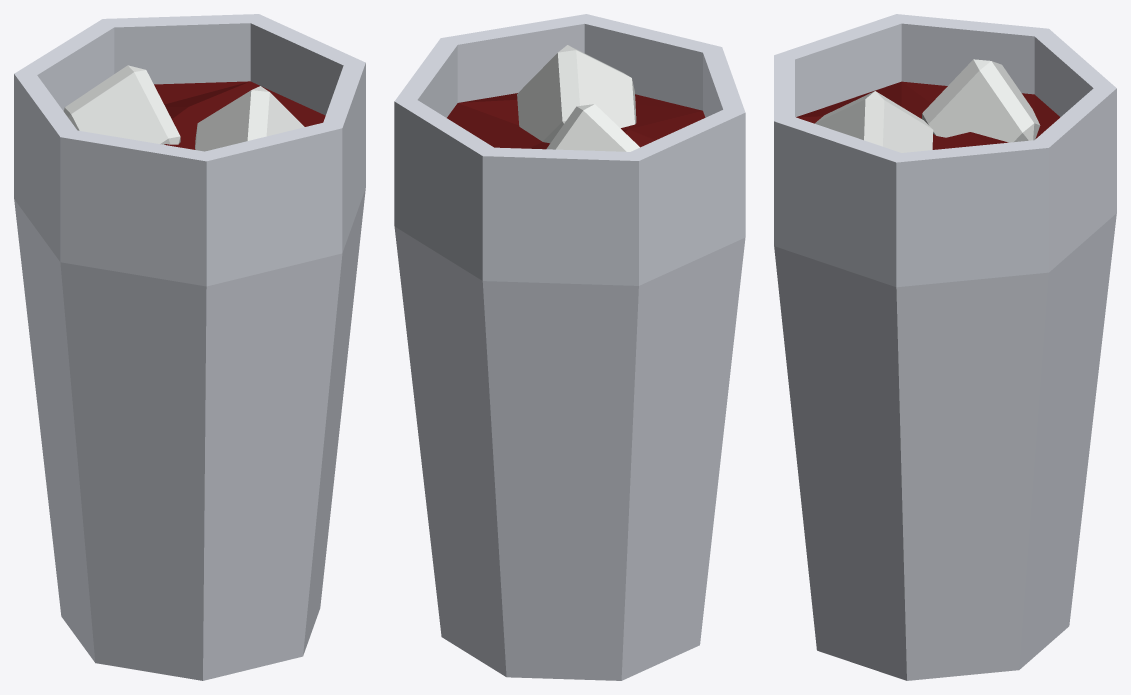
The model's file is drink.fbx.
3 views of the same model, side by side, from view 1: azimuth 30°, elevation 25°; view 2: azimuth 150°, elevation 25°; view 3: azimuth 270°, elevation 25° (orthographic).
Visible parts, largest first — view 1: Cylinder, Cube.001, Cube; view 2: Cylinder, Cube, Cube.001; view 3: Cylinder, Cube.001, Cube.
Boxes of the visible parts, x1=… form: Cylinder: x1=14, y1=14, x2=365, y2=680; Cube.001: x1=63, y1=65, x2=180, y2=144; Cube: x1=195, y1=86, x2=304, y2=151; Cylinder: x1=394, y1=14, x2=745, y2=680; Cube: x1=517, y1=45, x2=636, y2=143; Cube.001: x1=546, y1=104, x2=639, y2=151; Cylinder: x1=774, y1=14, x2=1116, y2=680; Cube.001: x1=922, y1=59, x2=1040, y2=142; Cube: x1=815, y1=91, x2=933, y2=152.
Bounding box in the file's own units: 0.1071 × 0.1844 × 0.1044.
Materials: 2 (2 with a texture image).
